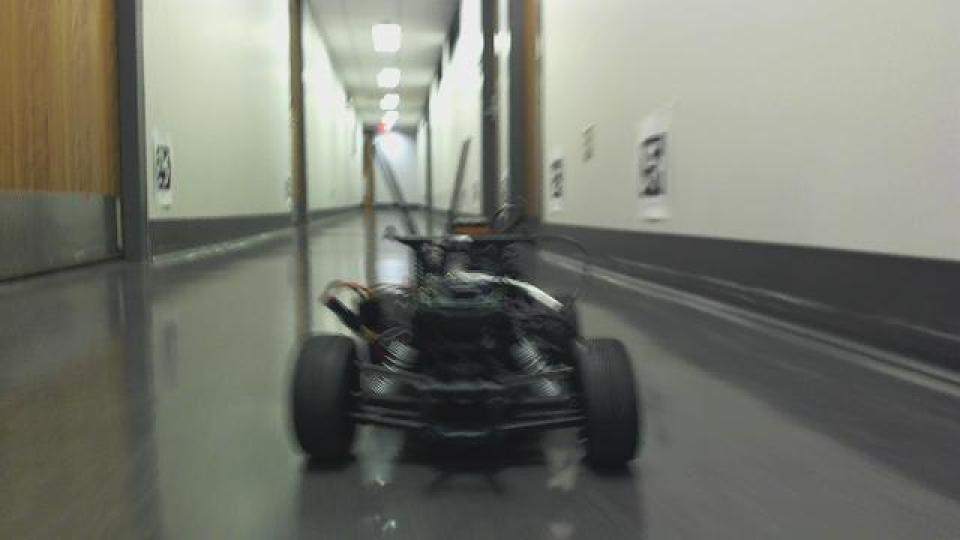car: (285, 201, 643, 481)
